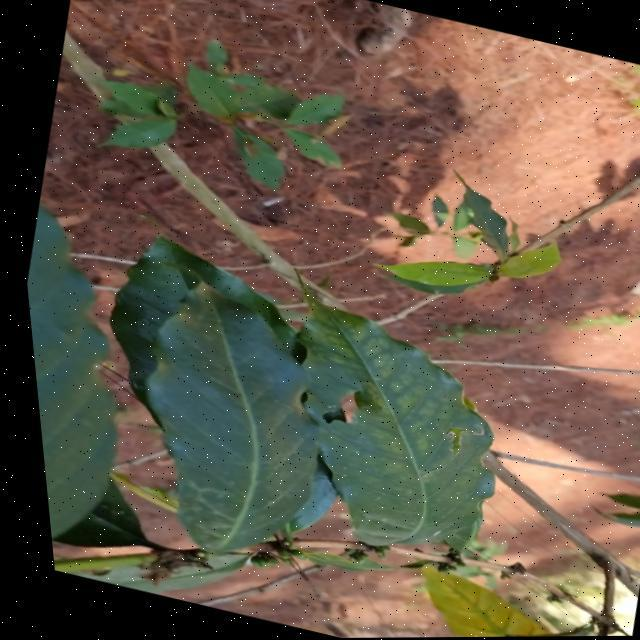leaves: (124, 269, 343, 561), (301, 297, 496, 553), (12, 204, 130, 537)
